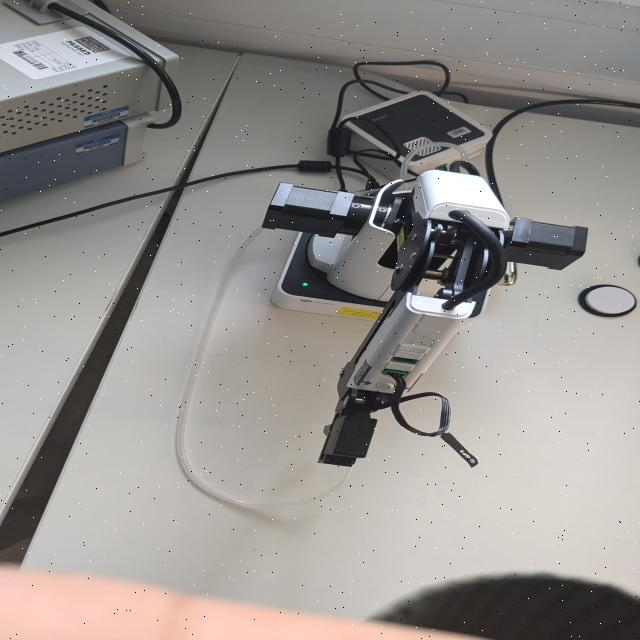Robot-end-effector-HF8z: (314, 409, 382, 473)
